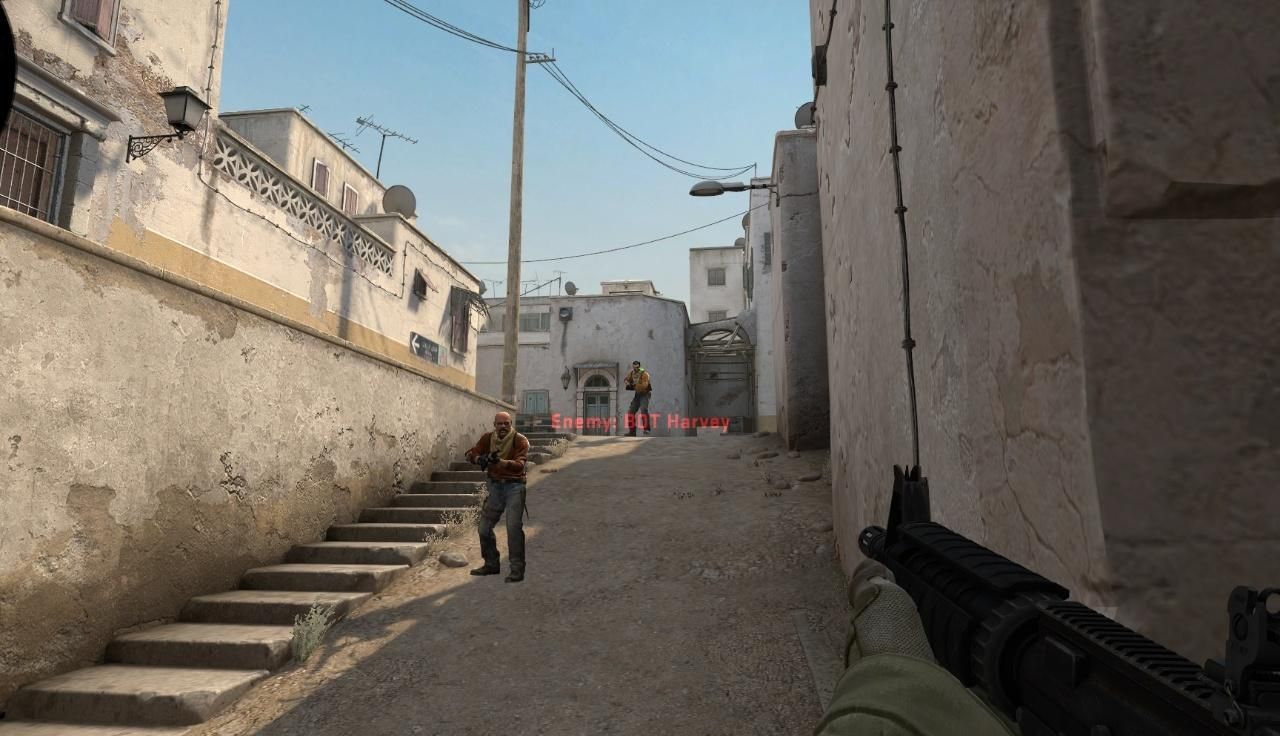rifle: (812, 461, 1280, 736)
tt: (466, 412, 529, 582), (624, 361, 652, 436)
tthead: (494, 412, 512, 437), (633, 361, 640, 372)
